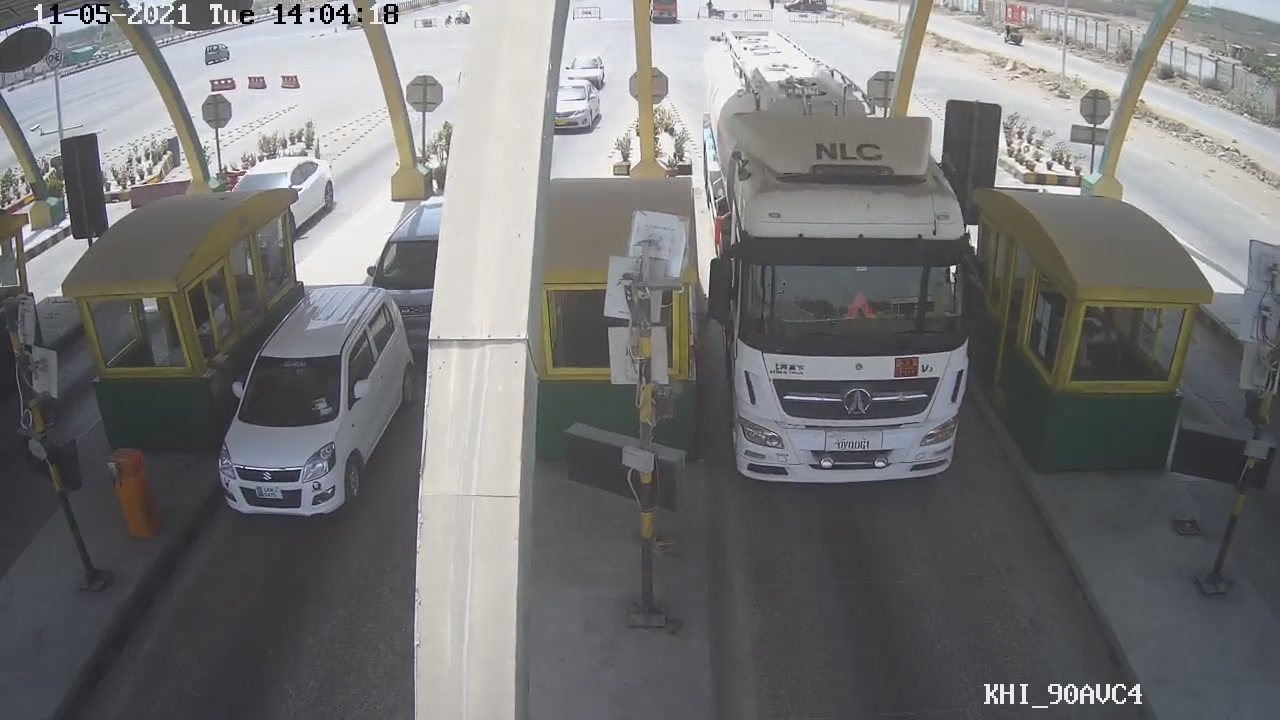F6: (695, 81, 980, 498)
